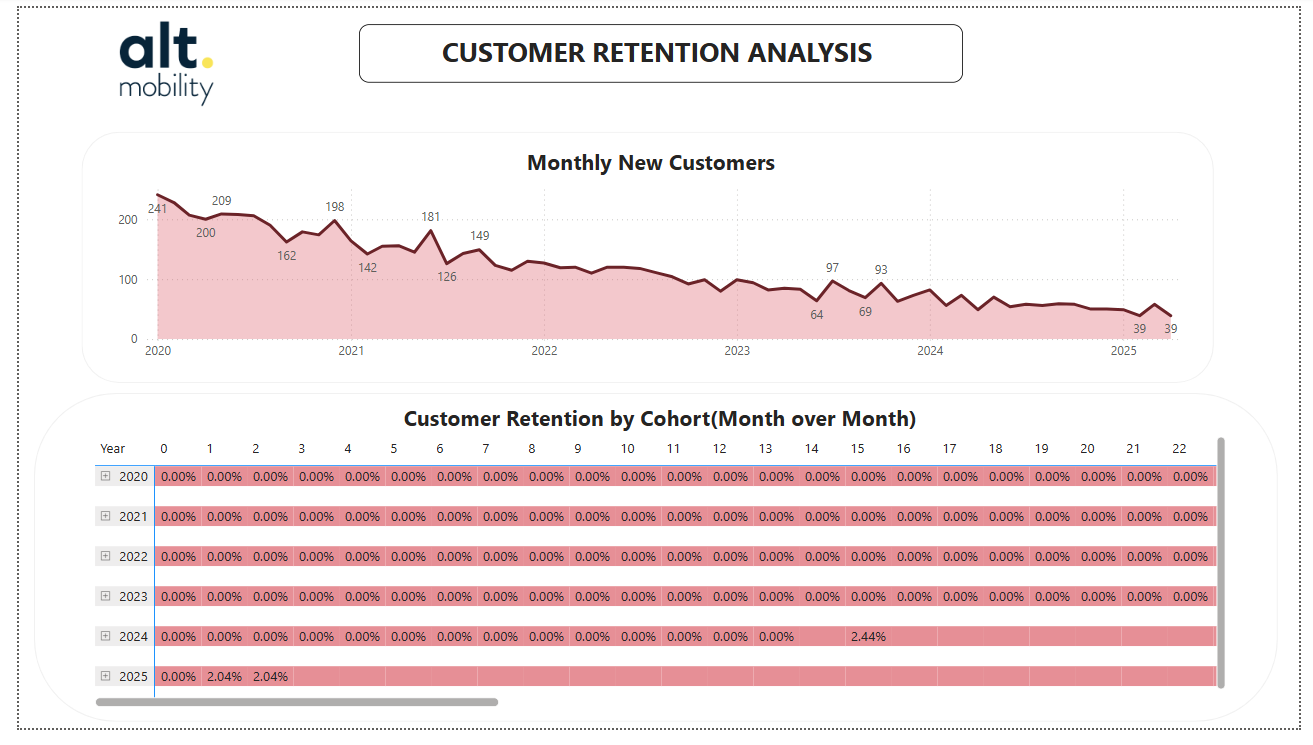

This screenshot's page, from the dashboard's own definition file:
{"tool":"powerbi","page":{"name":"Analysis","canvas":[1280,720],"ordinal":0},"visuals":[{"type":"shape","box":[15,385,1243.8,328.8],"z":0},{"type":"pivotTable","title":"Customer Retention by Cohort(Month over Month) ","fields":{"Columns":["COHORT.month_number"],"Values":["COHORT.Retention_Percent"],"Rows":["COHORT.cohort_month.Variation.Date Hierarchy.Year","COHORT.cohort_month.Variation.Date Hierarchy.Month"]},"box":[71.2,395,1140,308.8],"z":1000},{"type":"areaChart","title":"Monthly New Customers","fields":{"Y":["COHORT.Month0_Customers"],"Category":["COHORT.cohort_month.Variation.Date Hierarchy.Year","COHORT.cohort_month.Variation.Date Hierarchy.Month"]},"box":[93.8,138.8,1076.2,222.5],"z":2000},{"type":"shape","box":[62.5,123.8,1132.5,251.2],"z":3000},{"type":"image","box":[0,0,295,110],"z":3001},{"type":"textbox","box":[340,16.2,603.8,58.8],"z":3002}]}

Visuals, with their boxes in screenshot pixels (x1, y1, x2, y2), scaled from the page's 1280x720 canvas onto the 1313x745 screenshot:
shape: x1=15, y1=398, x2=1291, y2=739
"Customer Retention by Cohort(Month over Month) " pivotTable: x1=73, y1=409, x2=1242, y2=728
"Monthly New Customers" areaChart: x1=96, y1=144, x2=1200, y2=374
shape: x1=64, y1=128, x2=1226, y2=388
image: x1=0, y1=0, x2=303, y2=114
textbox: x1=349, y1=17, x2=968, y2=78
